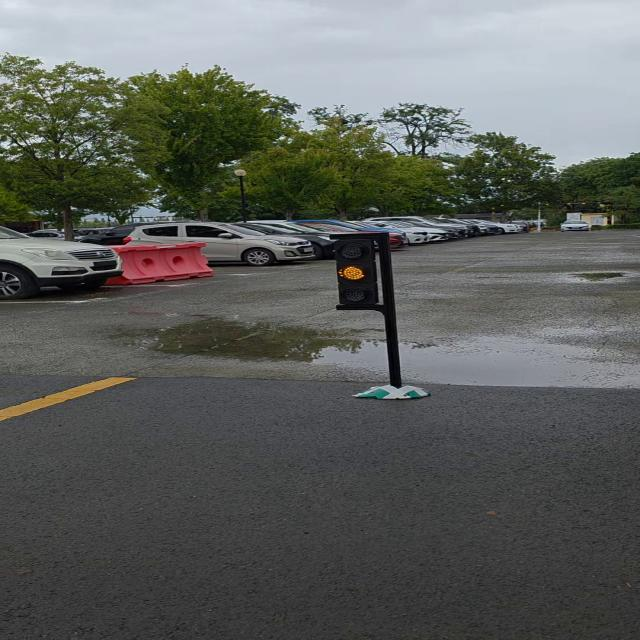yellow: (329, 234, 384, 309)
